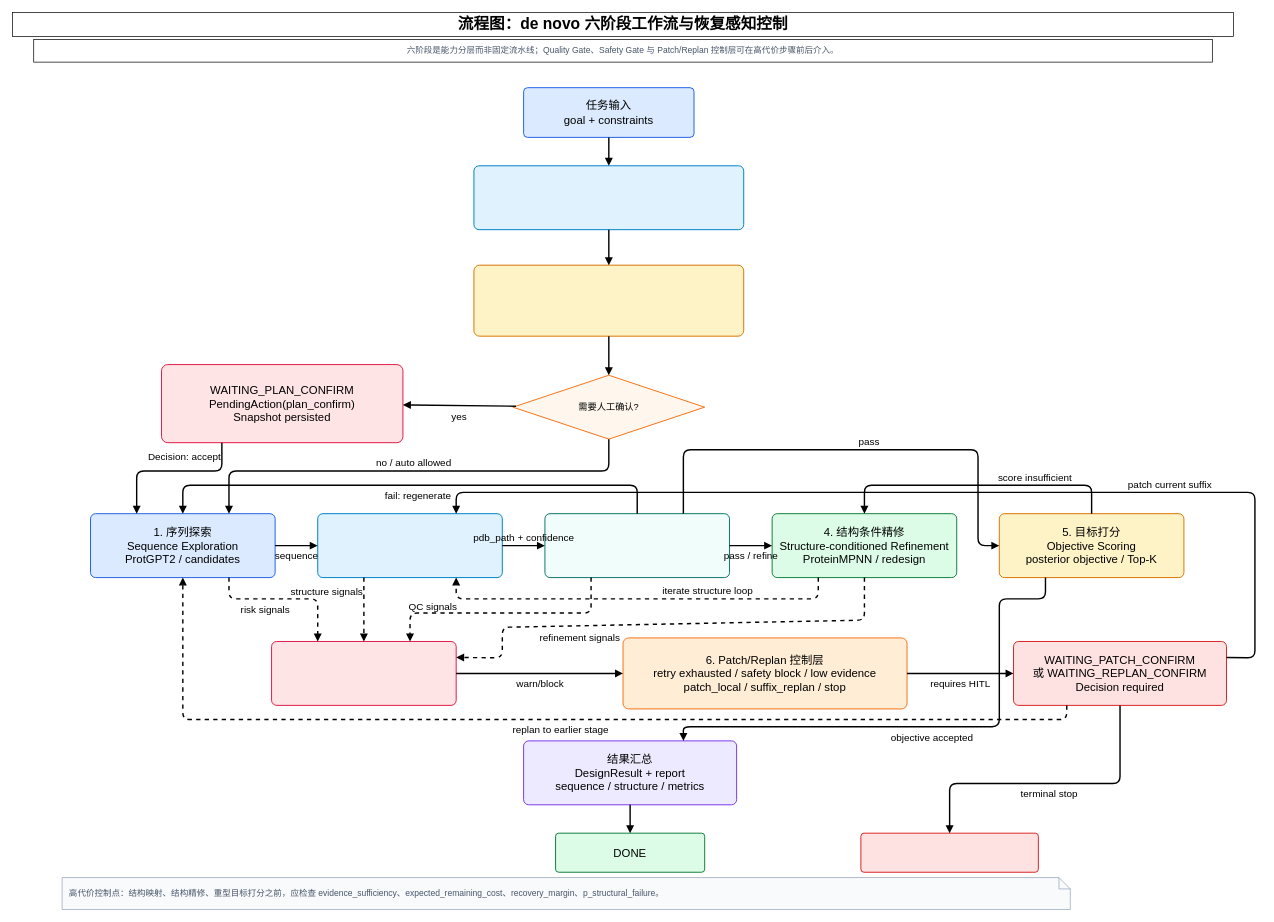
Some shapes in this 1274 by 922 pixel diagram are drawn without their labels. Here are the shapes that lost their labels. From the top down, the centre of each, then its label:
At point 608,197: "Task Intake 字段注册表 / schema validation ConfirmedTaskSpec → ProteinDesignTask".
At point 608,300: "Planner + ToolKG 生成 Top-K 候选链 Feasibility / cost / risk ranking".
At point 409,545: "2. 结构映射 Structure Projection ESMFold / OpenFold / pLDDT".
At point 637,545: "3. 质量门禁 Quality Gate QC flags / hard feasibility".
At point 363,673: "Safety Gate input / step / output allow / warn / block".
At point 949,852: "FAILED / CANCELLED".
